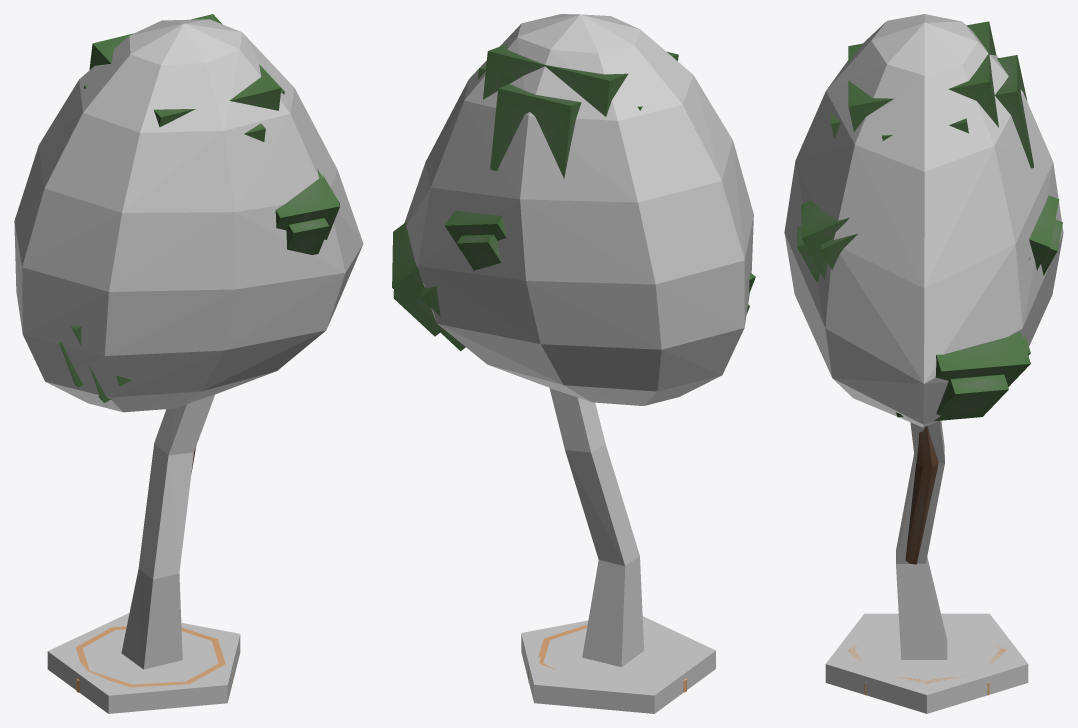
File: SM_Tree_01.fbx
The picture shows the model from 3 angles, left to right: view 1: azimuth 30°, elevation 25°; view 2: azimuth 150°, elevation 25°; view 3: azimuth 270°, elevation 25°; orthographic projection. The views are drawn at different scales.
Parts seen in each view (by area): view 1: SM_Tree_01_ConvexHulls, SM_Tree_01; view 2: SM_Tree_01_ConvexHulls, SM_Tree_01; view 3: SM_Tree_01_ConvexHulls, SM_Tree_01.
Part boxes in pixels (x1=…): SM_Tree_01_ConvexHulls: x1=14, y1=19, x2=363, y2=713; SM_Tree_01: x1=59, y1=14, x2=339, y2=692; SM_Tree_01_ConvexHulls: x1=404, y1=14, x2=753, y2=713; SM_Tree_01: x1=392, y1=43, x2=755, y2=692; SM_Tree_01_ConvexHulls: x1=784, y1=14, x2=1063, y2=713; SM_Tree_01: x1=797, y1=21, x2=1062, y2=695.
Bounding box in the file's own units: 462 × 318 × 832.
